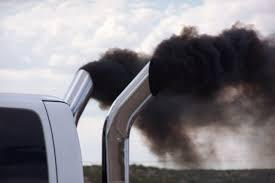smoke: (70, 18, 275, 183)
